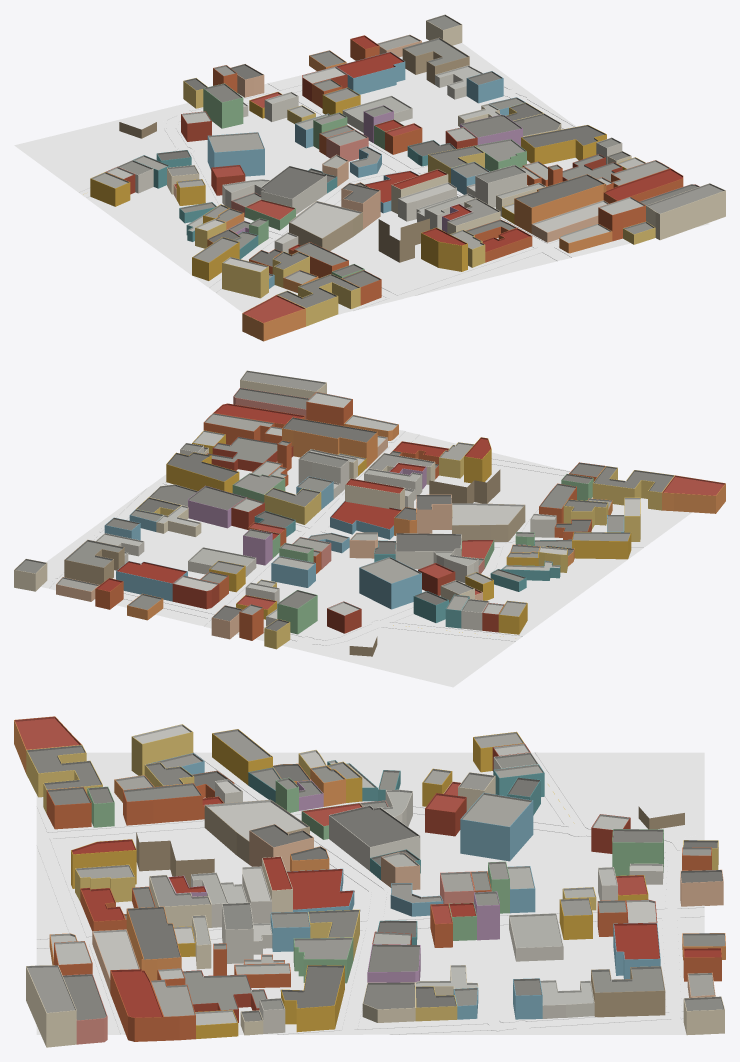
The picture shows the model from 3 angles, top to bottom: view 1: azimuth 30°, elevation 25°; view 2: azimuth 150°, elevation 25°; view 3: azimuth 270°, elevation 25°; orthographic projection. The views are drawn at different scales.
Visible parts, largest first — view 1: walls, roofs, plaza, pavers, sidewalk, asphalt; view 2: walls, roofs, plaza, sidewalk, pavers, asphalt; view 3: roofs, walls, plaza, pavers, sidewalk, asphalt.
Part boxes in pixels (x1,y1,x2,y2): walls: (90,20,725,341); roofs: (90,14,725,323); plaza: (14,43,709,315); pavers: (164,83,574,310); sidewalk: (78,58,576,313); asphalt: (79,44,526,291); walls: (14,380,725,656); roofs: (14,370,725,631); plaza: (41,430,691,687); sidewalk: (47,430,651,645); pavers: (49,431,569,651); asphalt: (47,527,650,640); roofs: (14,716,725,1025); walls: (14,720,725,1047); plaza: (36,752,704,1034); pavers: (36,807,704,1034); sidewalk: (36,752,704,1034); asphalt: (196,752,683,1034).
Size of what is drawn, in the model's own units: 272 by 14.15 by 266.
